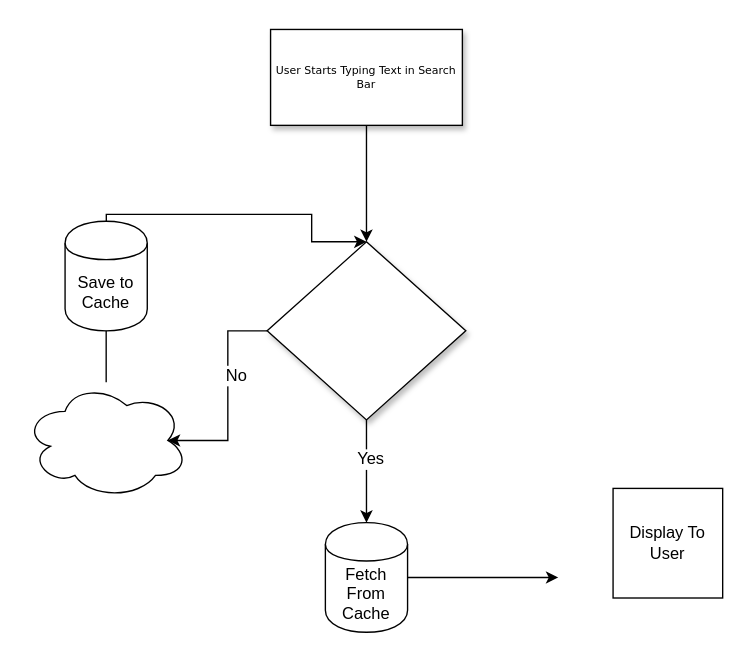
This 747x656 diagram has some shape labels left out. The centre of each missing label's shape, as x and y in pixels:
"Api" belongs at (105,440).
"Check Cache Is Data Present ?" belongs at (367,332).
